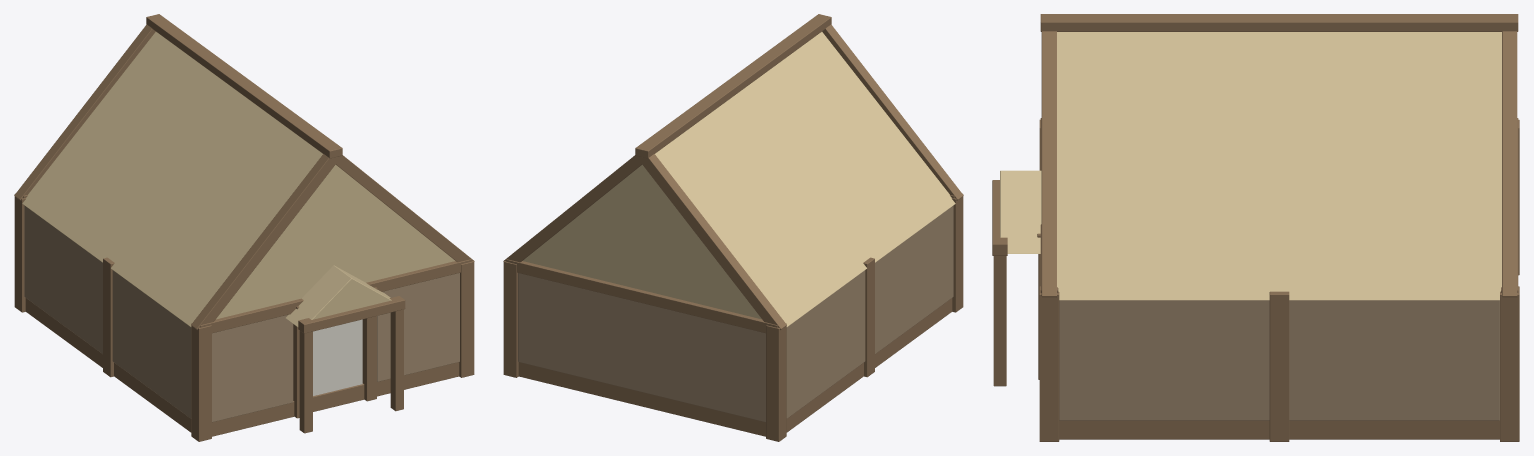
File: House_Meso_a.glb
3 views of the same model, side by side, from view 1: azimuth 30°, elevation 25°; view 2: azimuth 150°, elevation 25°; view 3: azimuth 270°, elevation 25° (orthographic). The views are drawn at different scales.
Visible parts, largest first — view 1: House_Meso_a; view 2: House_Meso_a; view 3: House_Meso_a.
Part boxes in pixels (x1,y1,x2,y2): House_Meso_a: [14, 14, 474, 441]; House_Meso_a: [503, 14, 963, 441]; House_Meso_a: [992, 14, 1519, 441].
Size of what is drawn, in the model's own units: 3.81 by 3.39 by 4.81.
